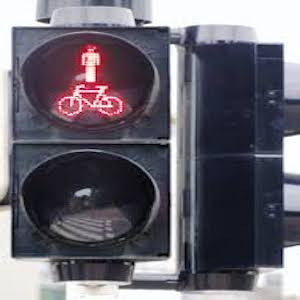red: (56, 44, 129, 127)
